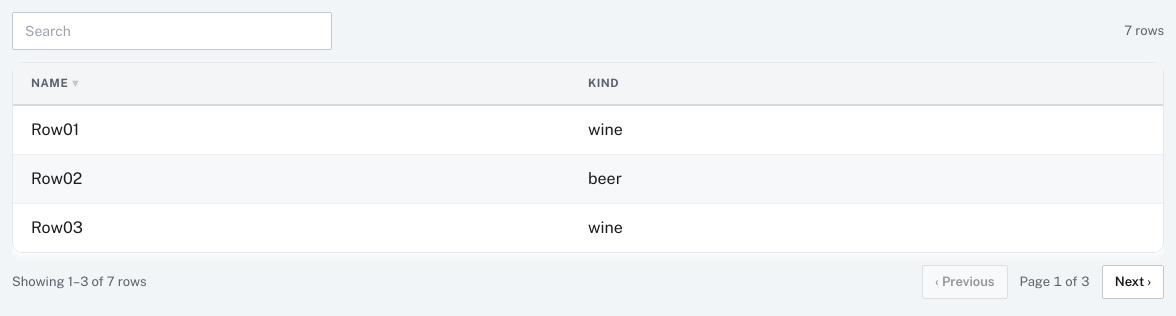
it: DataTable pagination › returns to the first page when a search narrows the results
The image size is (1176, 316).
Click the button "Next ›" at (1133, 282), box x1=1102 y1=265 x2=1164 y2=299
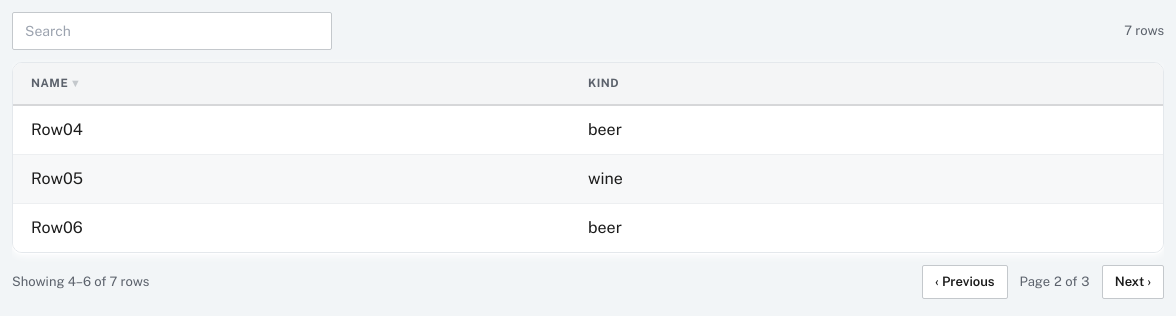
Expected: the text "Showing 4–6 of 7 rows" is shown, x1=12 y1=272 x2=149 y2=292
Type "Row01" into the search field at (172, 31), box x1=12 y1=12 x2=332 y2=50
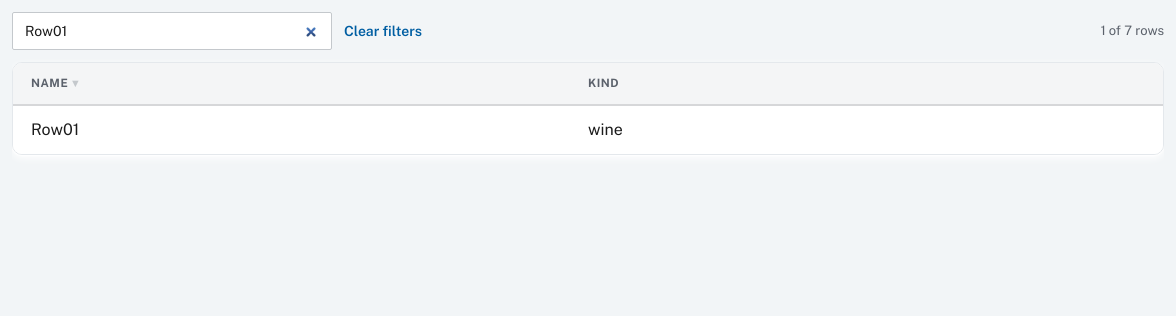
Expected: the text "Row01" is shown, x1=31 y1=120 x2=79 y2=139
Expected: the text "Showing" is gone
